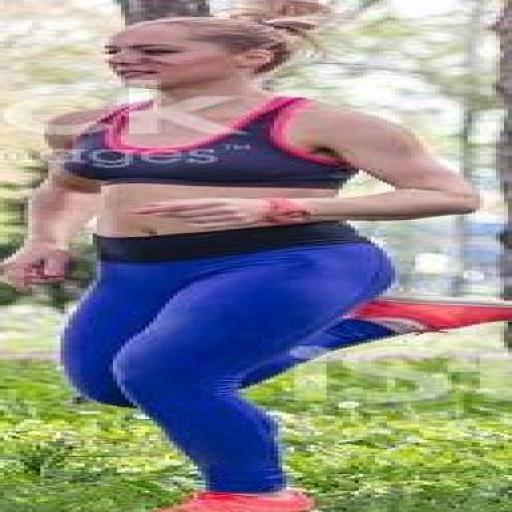person: (0, 18, 511, 511)
